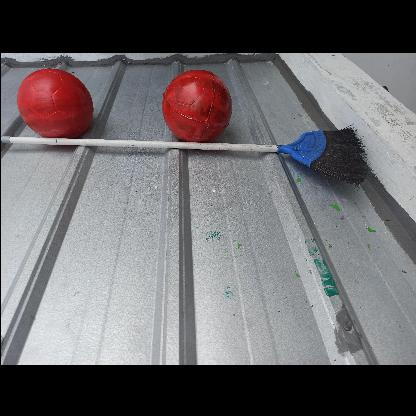red_ball: (13, 66, 91, 144), (159, 69, 231, 141)
